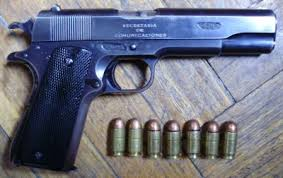Arma Real: (7, 6, 274, 171)
